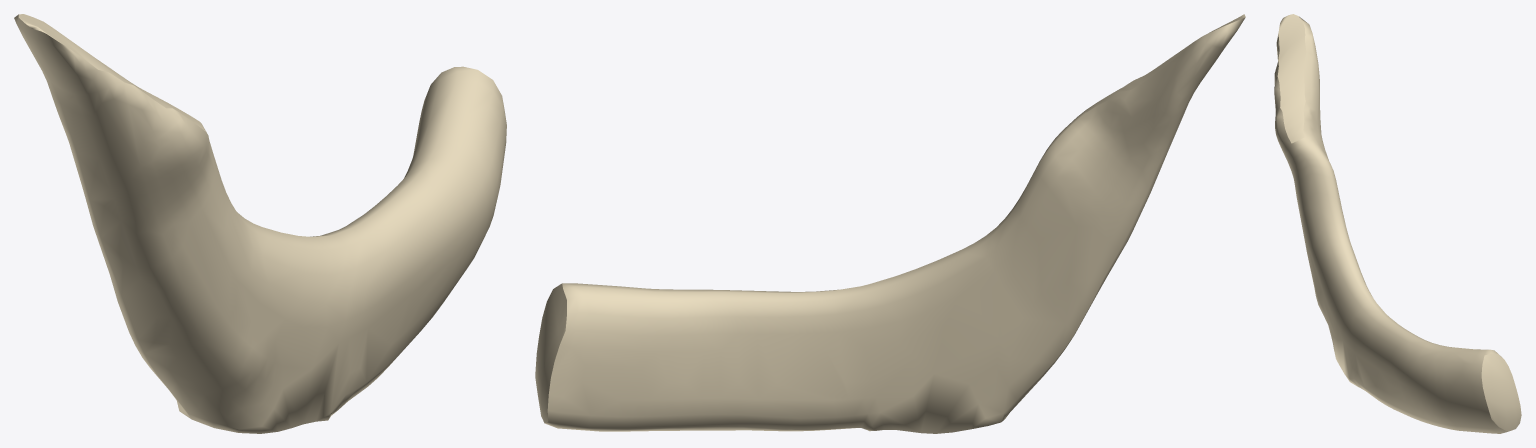
File: esqueleto-costal-cartilage-of-eighth-rib-l.glb
3 views of the same model, side by side, from view 1: azimuth 30°, elevation 25°; view 2: azimuth 150°, elevation 25°; view 3: azimuth 270°, elevation 25° (orthographic). The views are drawn at different scales.
Parts seen in each view (by area): view 1: Costal cartilage of eighth rib.l; view 2: Costal cartilage of eighth rib.l; view 3: Costal cartilage of eighth rib.l.
Part boxes in pixels (x1,y1,x2,y2): Costal cartilage of eighth rib.l: [14, 14, 506, 433]; Costal cartilage of eighth rib.l: [535, 14, 1245, 433]; Costal cartilage of eighth rib.l: [1274, 14, 1521, 433].
Size of the model in its own units: 0.0815 by 0.0623 by 0.0502.
